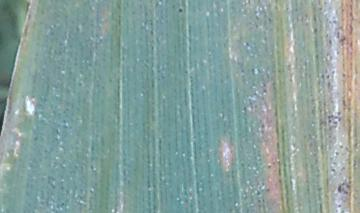tarspot: (177, 6, 184, 14)
